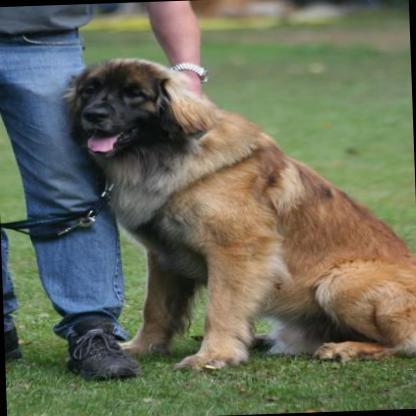Leonberg: (58, 46, 416, 378)
